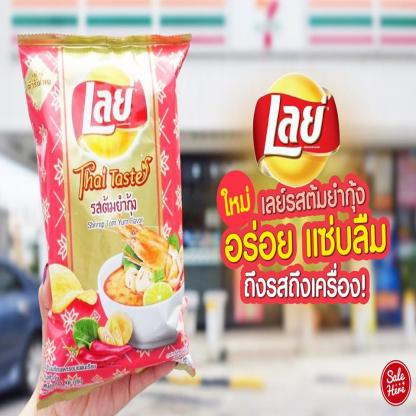potatochip: (14, 29, 197, 409)
